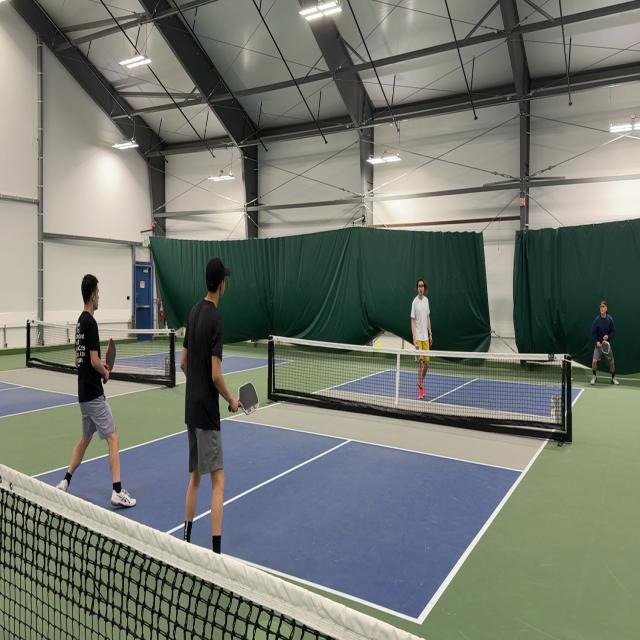ball: (376, 341, 382, 350)
